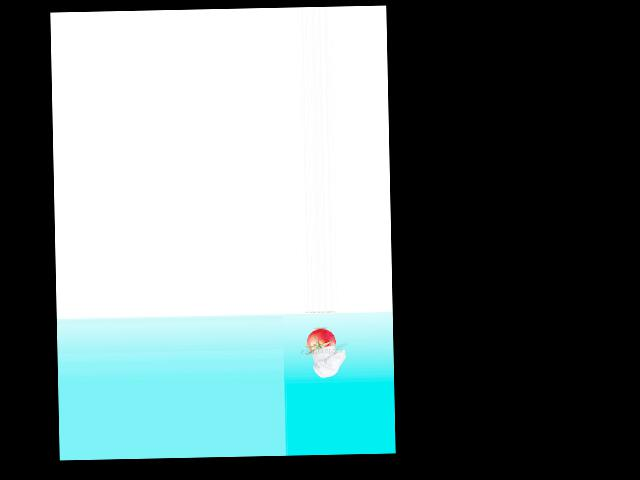tomato: (307, 329, 336, 353)
